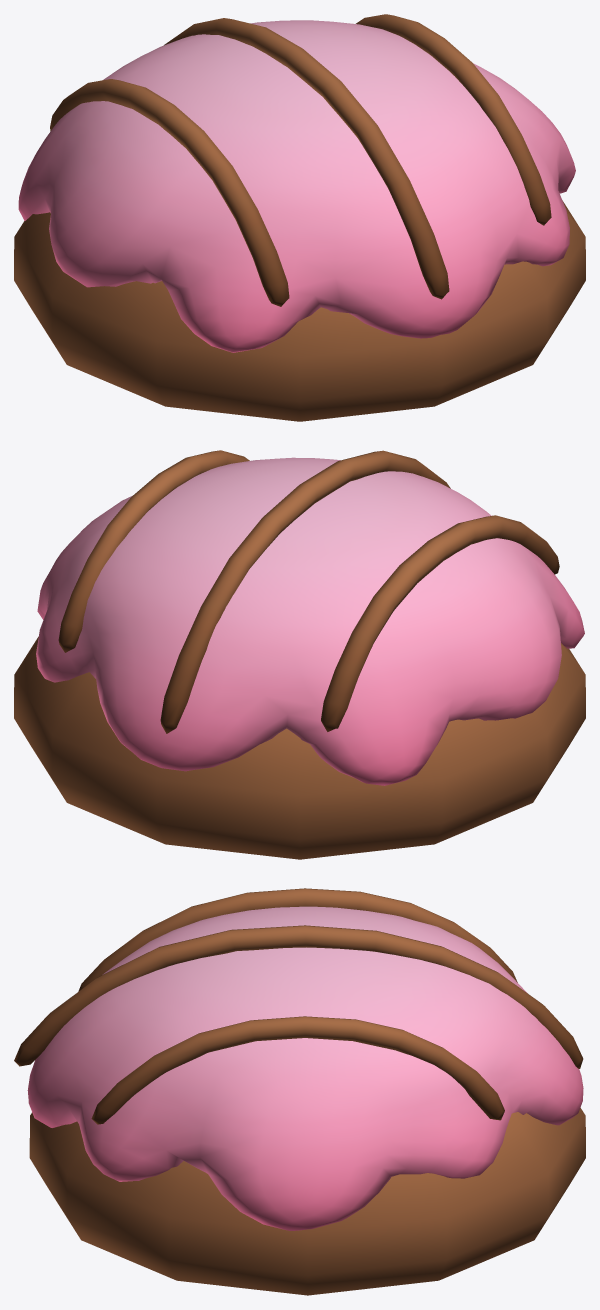
File: candy_choco_23.fbx
3 renders of one model, top to bottom at view 1: azimuth 30°, elevation 25°; view 2: azimuth 150°, elevation 25°; view 3: azimuth 270°, elevation 25°, orthographic. The views are drawn at different scales.
Parts seen in each view (by area): view 1: c_c_23; view 2: c_c_23; view 3: c_c_23.
Part boxes in pixels (x1,y1,x2,y2): c_c_23: [14, 14, 585, 421]; c_c_23: [14, 450, 585, 859]; c_c_23: [14, 888, 585, 1295].
Bounding box in the file's own units: 150 × 78.32 × 152.
